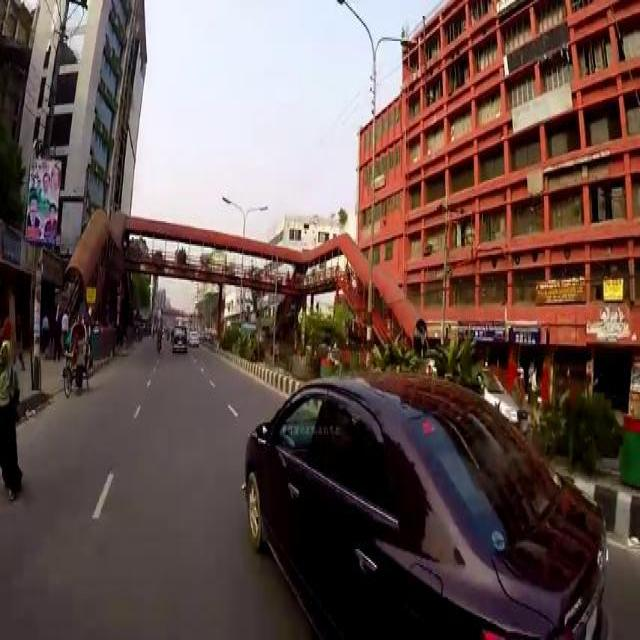car: (242, 366, 610, 636), (186, 327, 198, 342)
rickshaw: (61, 317, 93, 394)
van: (172, 324, 186, 348)
